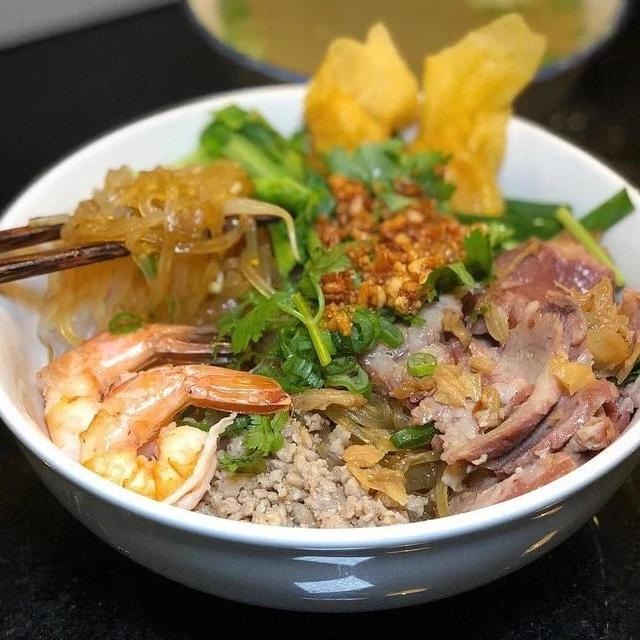banh hu tieu: (27, 150, 289, 370)
hu tieu: (0, 86, 640, 610)
thit bam: (191, 394, 432, 552)
thit heo: (400, 299, 579, 472), (471, 234, 640, 389), (471, 368, 622, 480), (416, 438, 591, 526)
tom: (77, 358, 296, 516), (35, 316, 249, 474)
